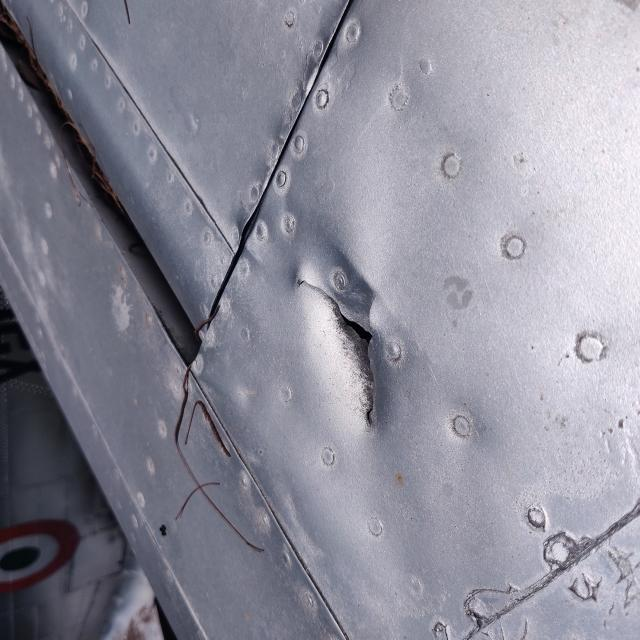crack: (175, 268, 416, 409)
